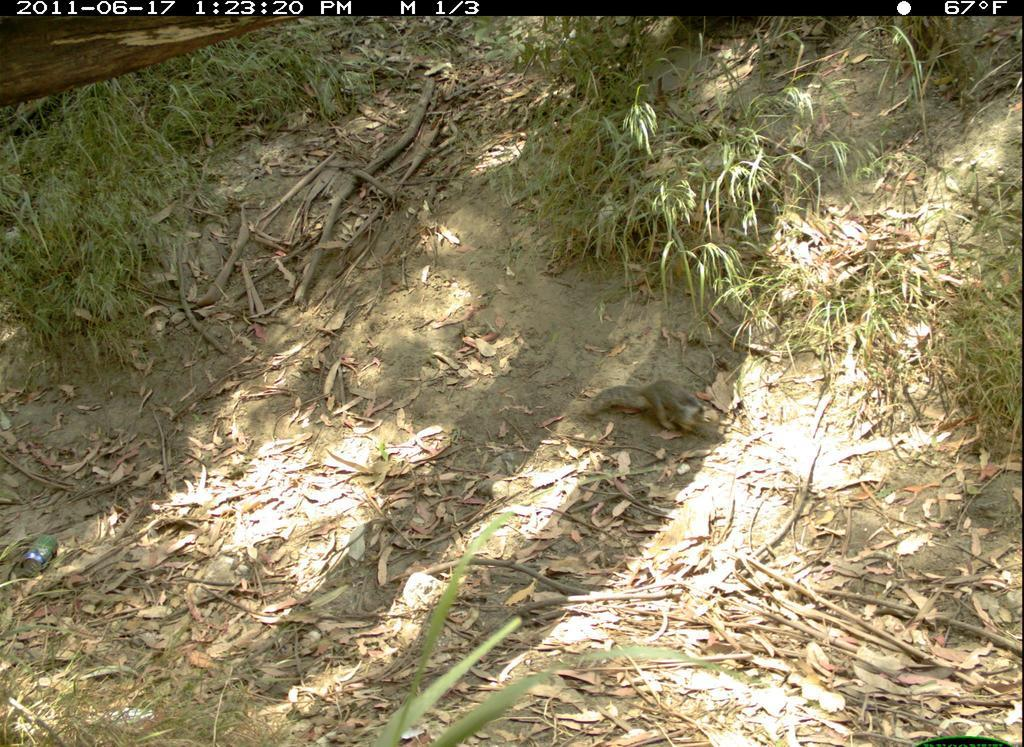squirrel: (580, 365, 726, 450)
